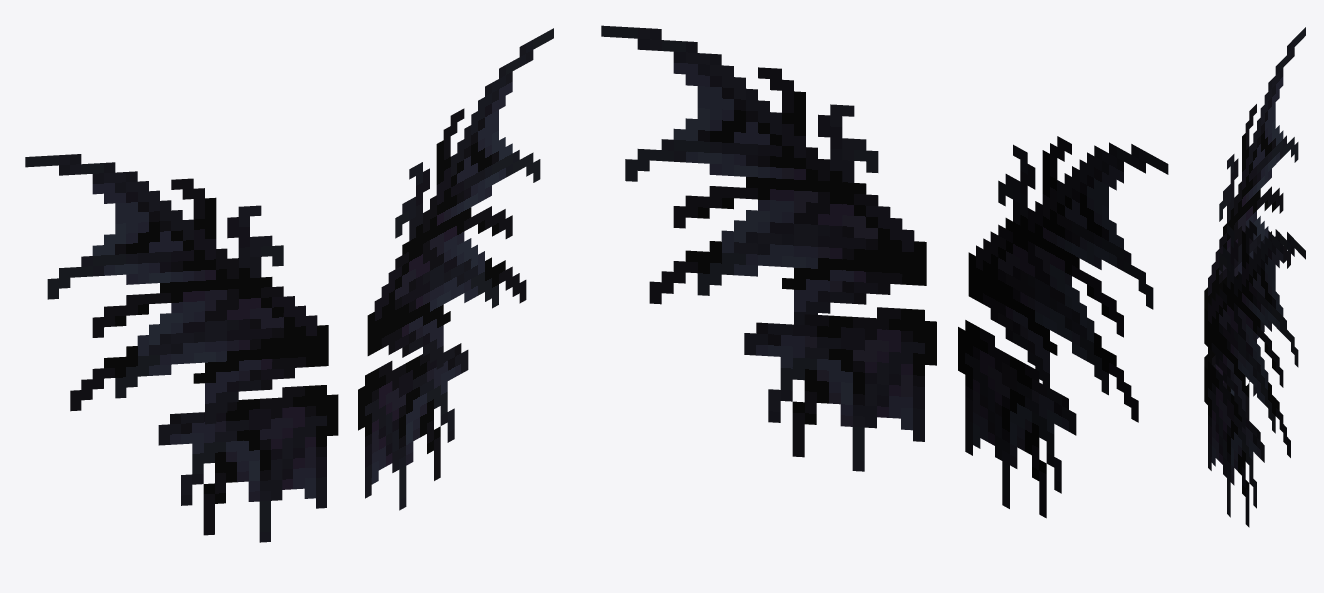
The model's file is sl_gothic_moth_wings.glb.
3 renders of one model, left to right at view 1: azimuth 30°, elevation 25°; view 2: azimuth 150°, elevation 25°; view 3: azimuth 270°, elevation 25°, orthographic. The views are drawn at different scales.
Parts seen in each view (by area): view 1: bb_gothic_moth_wings; view 2: bb_gothic_moth_wings; view 3: bb_gothic_moth_wings.
Boxes of the visible parts, left/top/right/bottom form: bb_gothic_moth_wings: left=25, top=28, right=553, bottom=542; bb_gothic_moth_wings: left=601, top=25, right=1168, bottom=518; bb_gothic_moth_wings: left=1204, top=27, right=1305, bottom=527.
Size of the model in its own units: 3.48 by 2.69 by 0.6697.
1 material, 1 textured.
